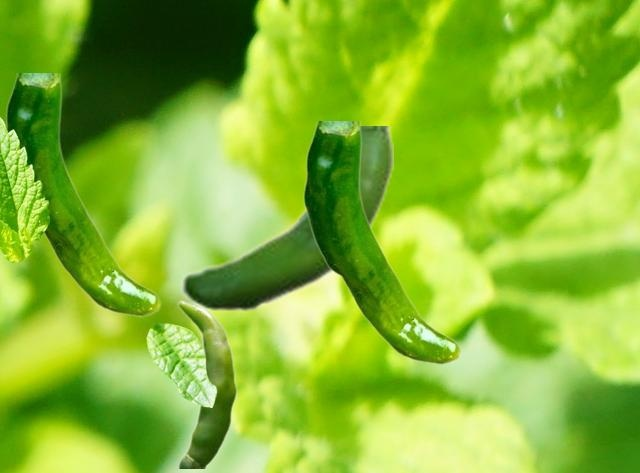green_chili: (179, 126, 392, 313), (303, 121, 460, 364), (3, 73, 160, 316), (176, 299, 237, 467)
